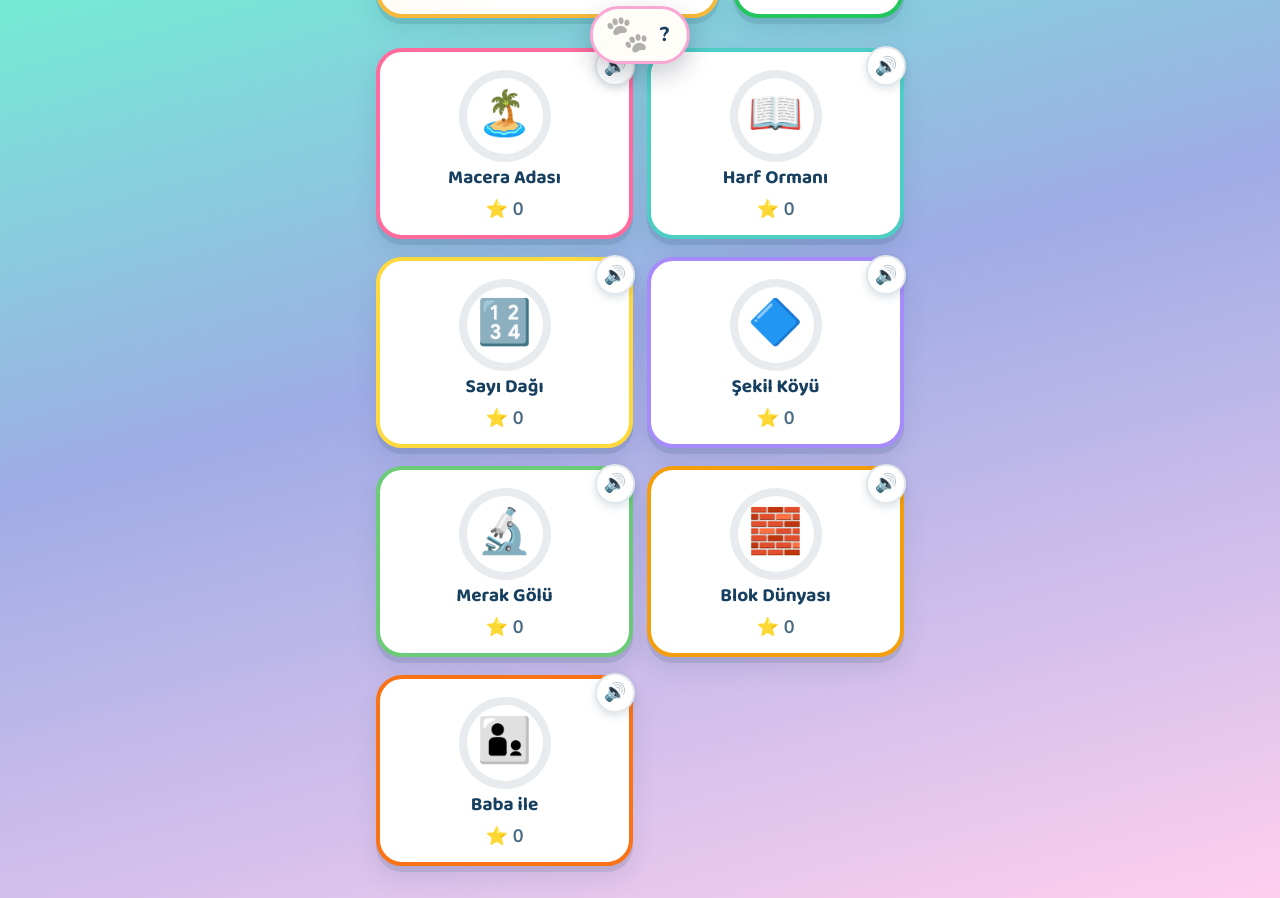
Scenario: WorldMap › babaIleEnabled açıkken Baba ile görünür ve aritmetik kapı açar
(page scrolled)
Step 1. Click the text "Baba ile" → x=505, y=806, box x1=471 y1=795 x2=538 y2=817
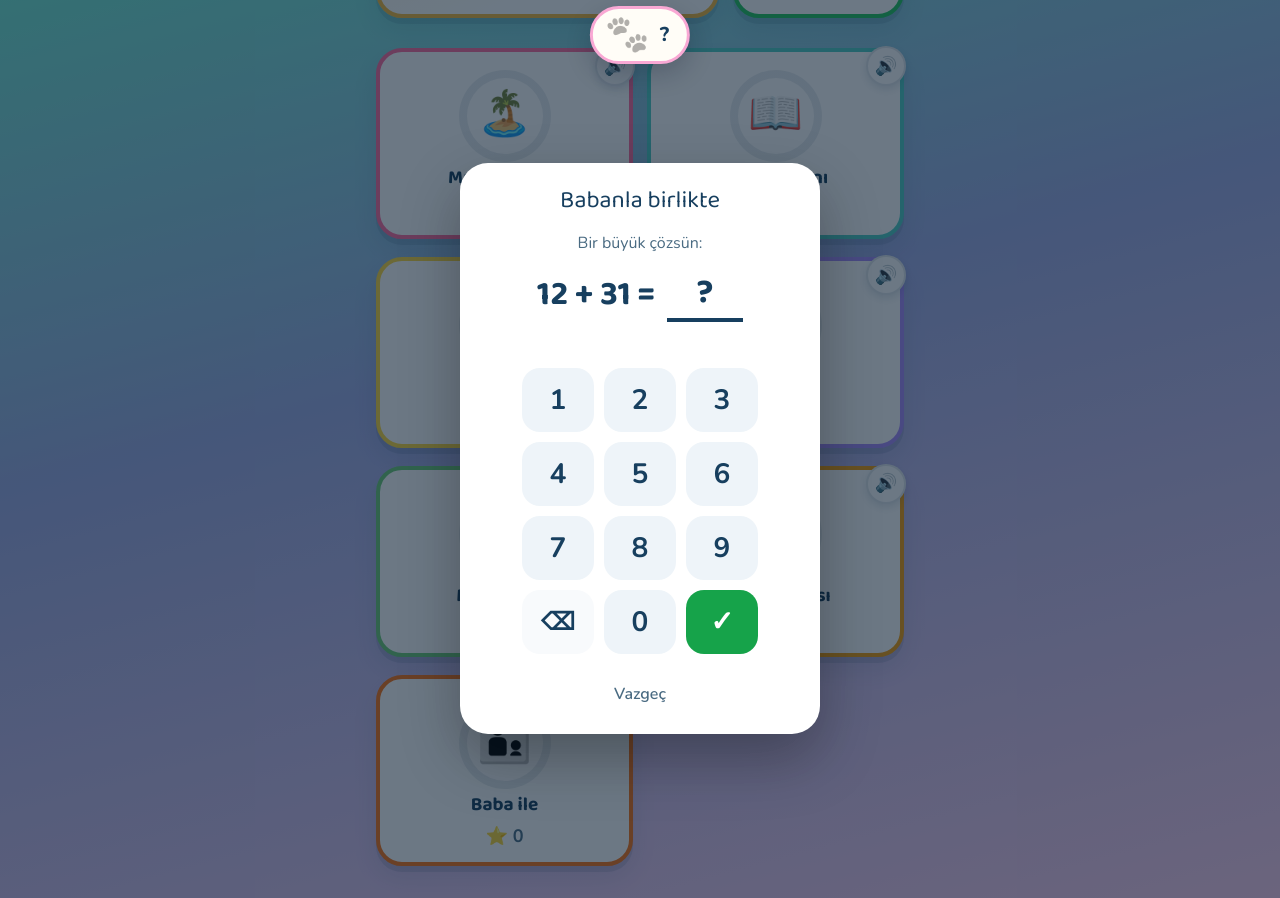
Now the dialog is shown, box x1=460 y1=162 x2=820 y2=734
